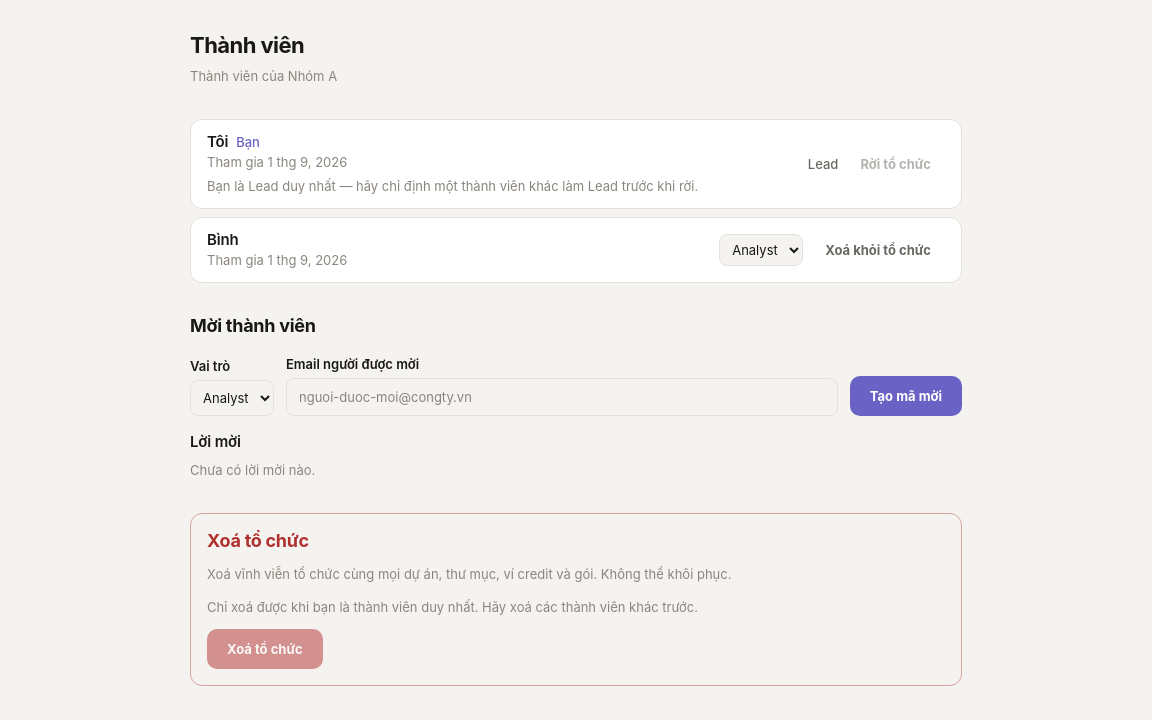
Test: góp ý UI tổ chức (kiểm bằng Playwright 2026-10-04) › lỗi khi xác nhận trong hộp thoại hiện NGAY TRONG hộp thoại, không bị che sau lớp mờ
The image size is (1152, 720).
Click the button "Xoá khỏi tổ chức".
click(878, 250)  # box [811,234,945,266]
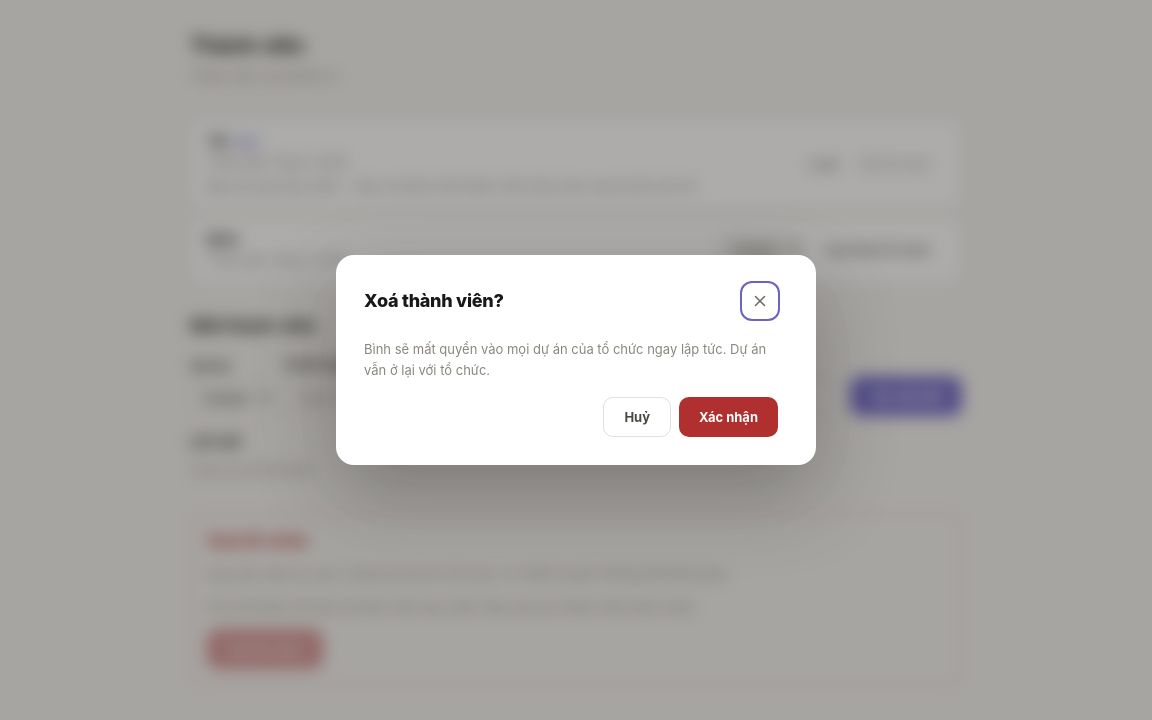
Click the button "Xác nhận".
click(728, 417)  # box [679,397,778,437]
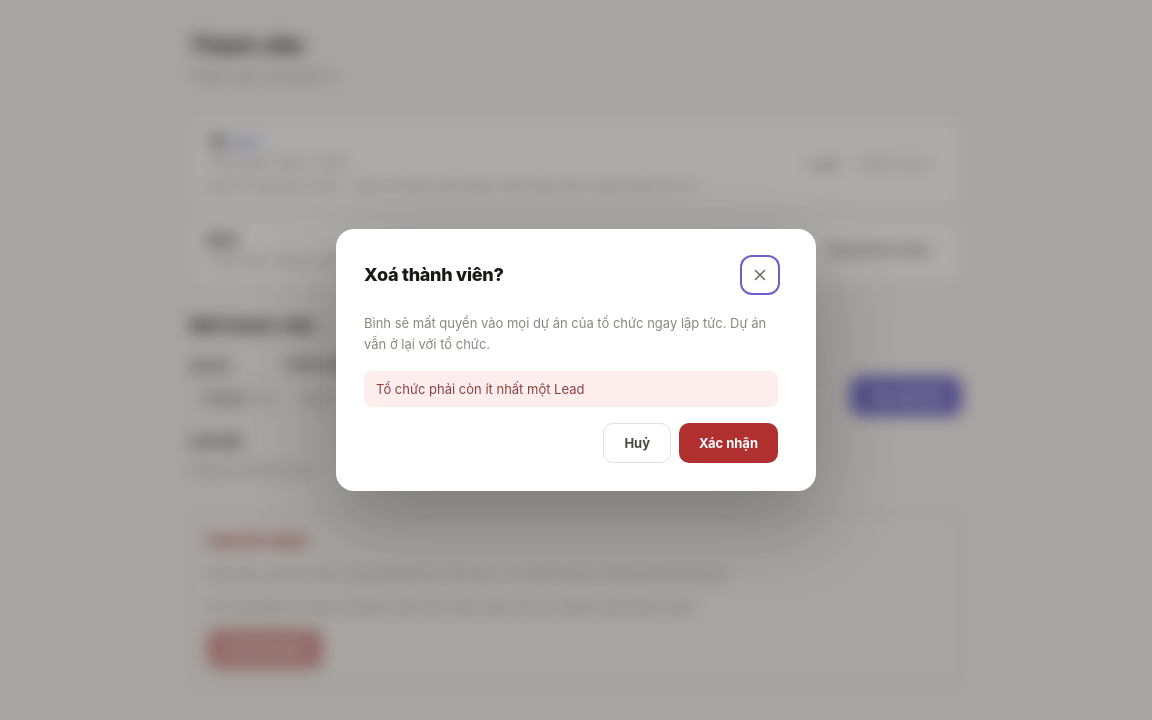
Expected: the message shows "ít nhất một Lead", [376,381,584,397]
